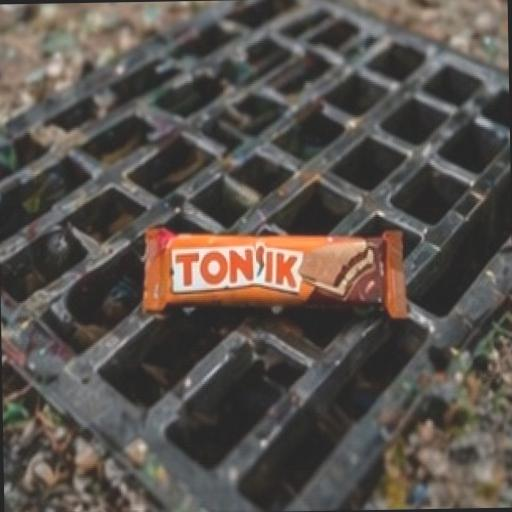tonik: (76, 126, 472, 442)
